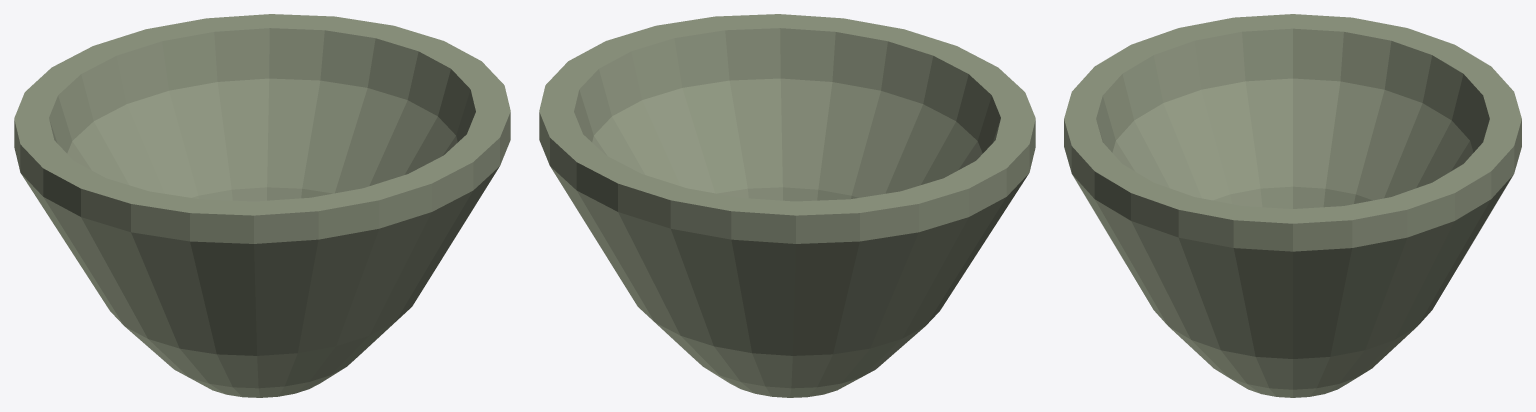
The model's file is ToiletBowl.fbx.
3 views of the same model, side by side, from view 1: azimuth 30°, elevation 25°; view 2: azimuth 150°, elevation 25°; view 3: azimuth 270°, elevation 25° (orthographic). The views are drawn at different scales.
Parts seen in each view (by area): view 1: ToiletBowl; view 2: ToiletBowl; view 3: ToiletBowl.
Boxes of the visible parts, <box> form: ToiletBowl: <box>14,14,510,397</box>; ToiletBowl: <box>539,14,1035,397</box>; ToiletBowl: <box>1064,14,1521,397</box>.
Bounding box in the file's own units: 0.62 × 0.352 × 0.572.
